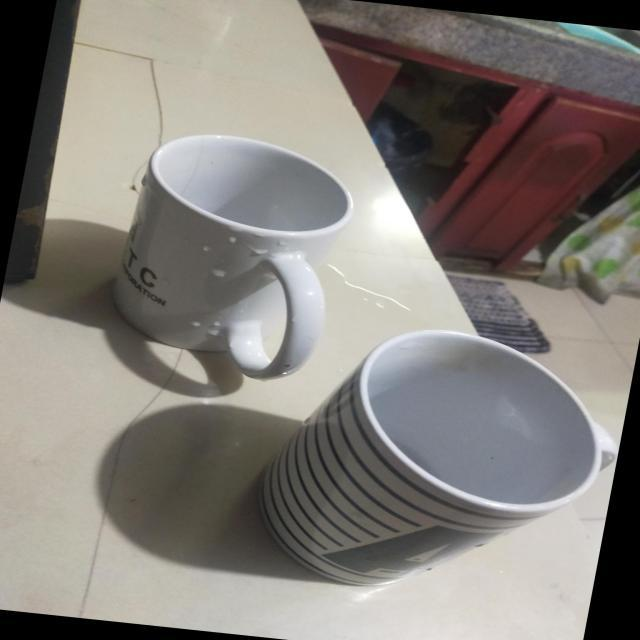taza: (258, 329, 620, 587), (110, 133, 356, 380)
